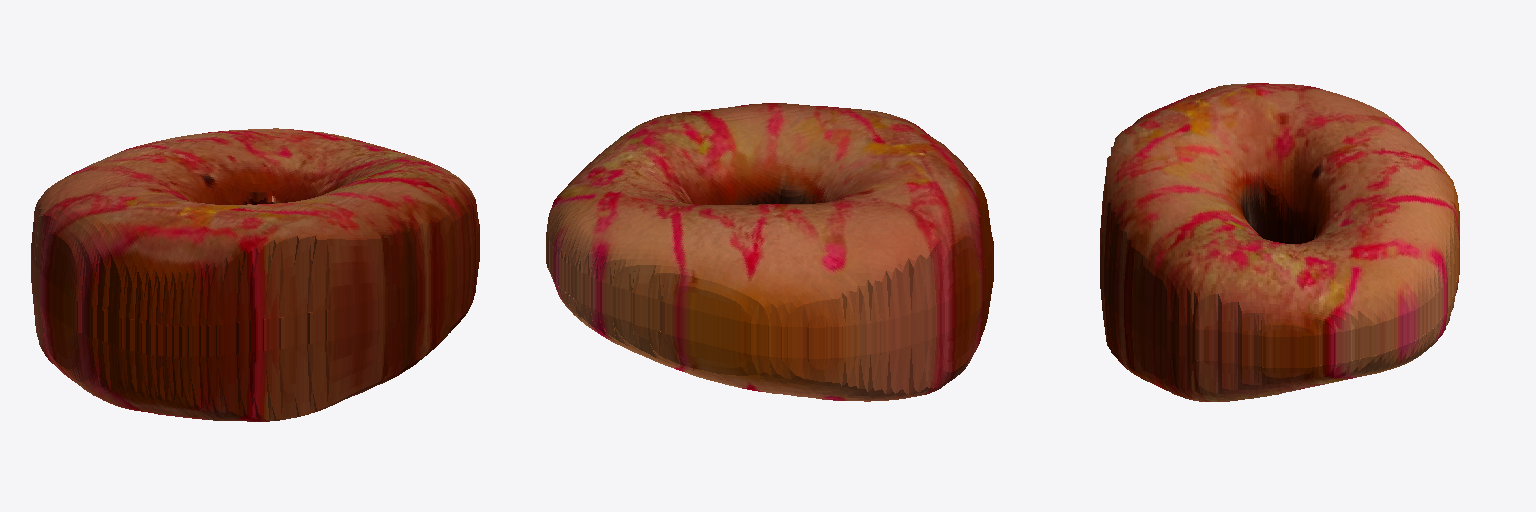
3 views of the same model, side by side, from view 1: azimuth 30°, elevation 25°; view 2: azimuth 150°, elevation 25°; view 3: azimuth 270°, elevation 25° (orthographic).
Visible parts, largest first — view 1: Grid; view 2: Grid; view 3: Grid.
Boxes of the visible parts, x1=… form: Grid: x1=31, y1=128, x2=479, y2=421; Grid: x1=546, y1=103, x2=993, y2=401; Grid: x1=1100, y1=83, x2=1459, y2=401.
Size of the model in its own units: 1.85 by 0.9 by 1.46.
2 materials, 1 textured.